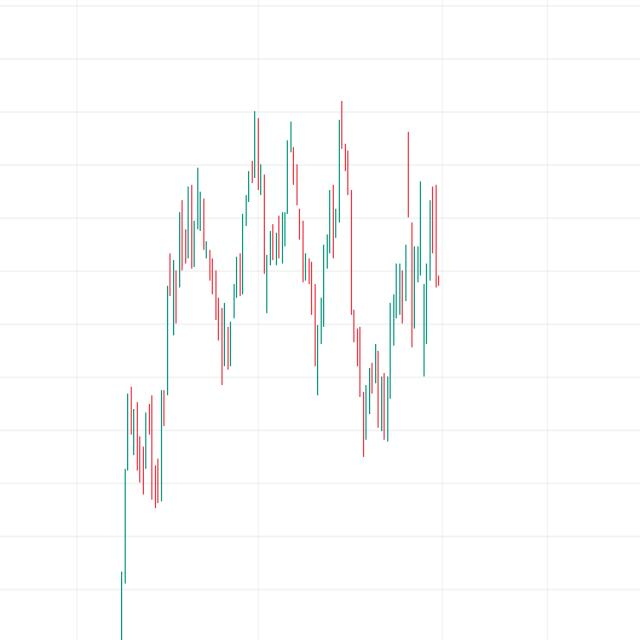Triple-Top: (224, 89, 368, 287)
